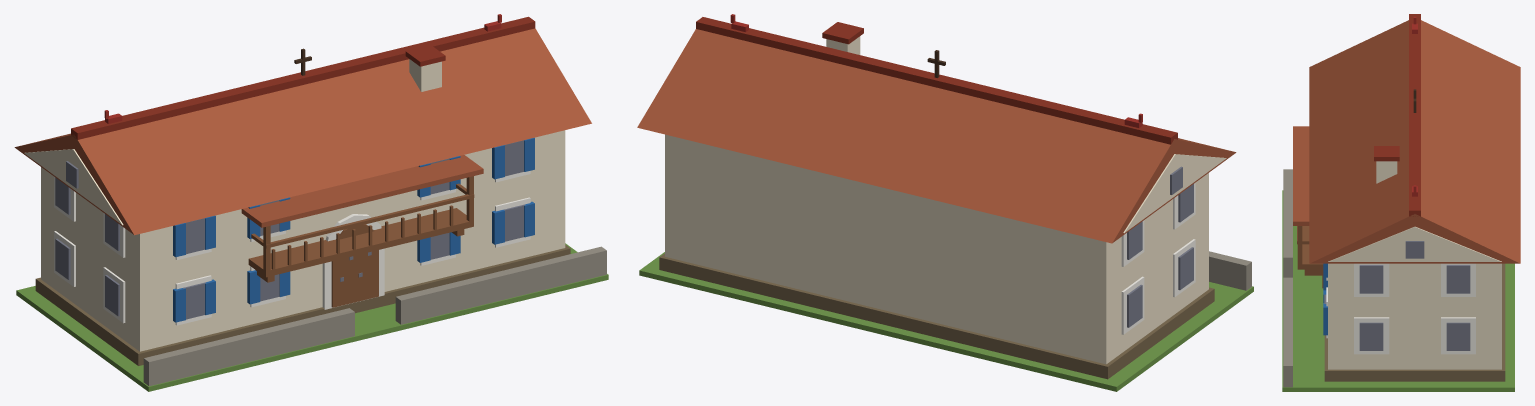
File: house-2x1-2f-third-andean-a.glb
3 views of the same model, side by side, from view 1: azimuth 30°, elevation 25°; view 2: azimuth 150°, elevation 25°; view 3: azimuth 270°, elevation 25° (orthographic). The views are drawn at different scales.
Parts seen in each view (by area): view 1: house-2x1-2f-third-andean-a; view 2: house-2x1-2f-third-andean-a; view 3: house-2x1-2f-third-andean-a.
Part boxes in pixels (x1,y1,x2,y2): house-2x1-2f-third-andean-a: (14, 14, 608, 391); house-2x1-2f-third-andean-a: (637, 14, 1253, 391); house-2x1-2f-third-andean-a: (1282, 14, 1520, 391).
Size of the model in its own units: 2.01 by 0.955 by 1.01.
Materials: 1 (1 with a texture image).
